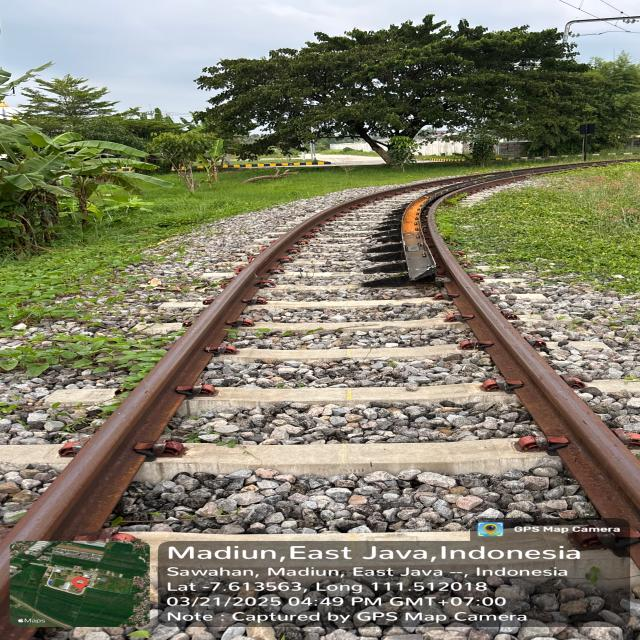rail-detection: (2, 191, 391, 560), (136, 161, 610, 400), (421, 193, 640, 529), (401, 171, 546, 281), (529, 162, 606, 174)
